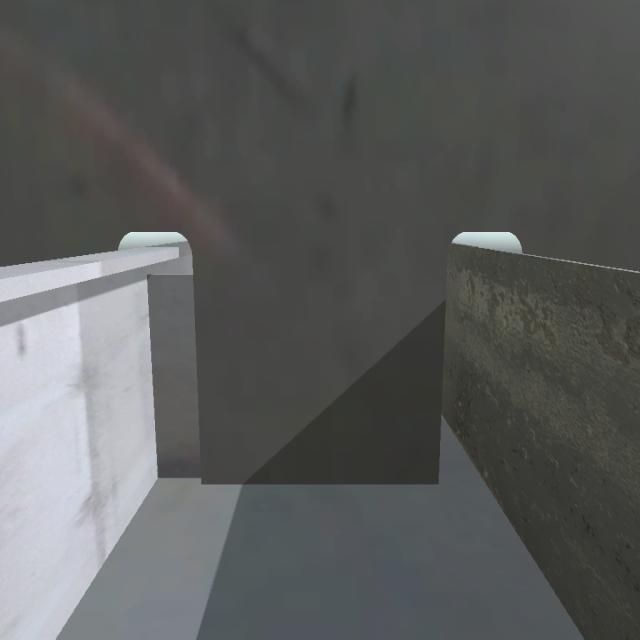fillet_yong_jeop_jang: (196, 474, 442, 494)
longi_yong_jeop_jang: (141, 266, 159, 481)
plate_behind: (153, 271, 193, 481)
